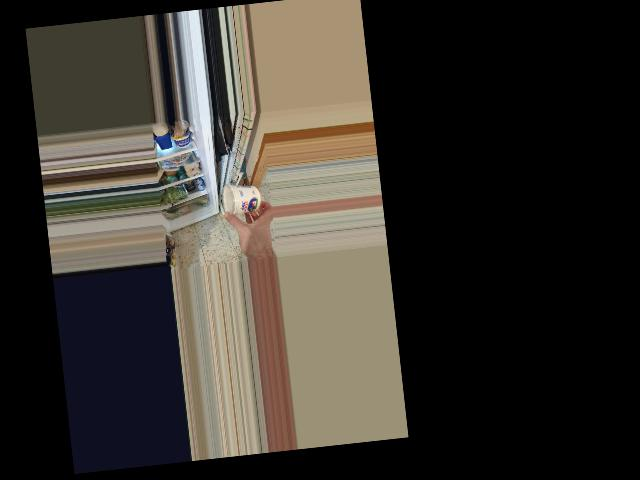cotage: (223, 184, 259, 218)
